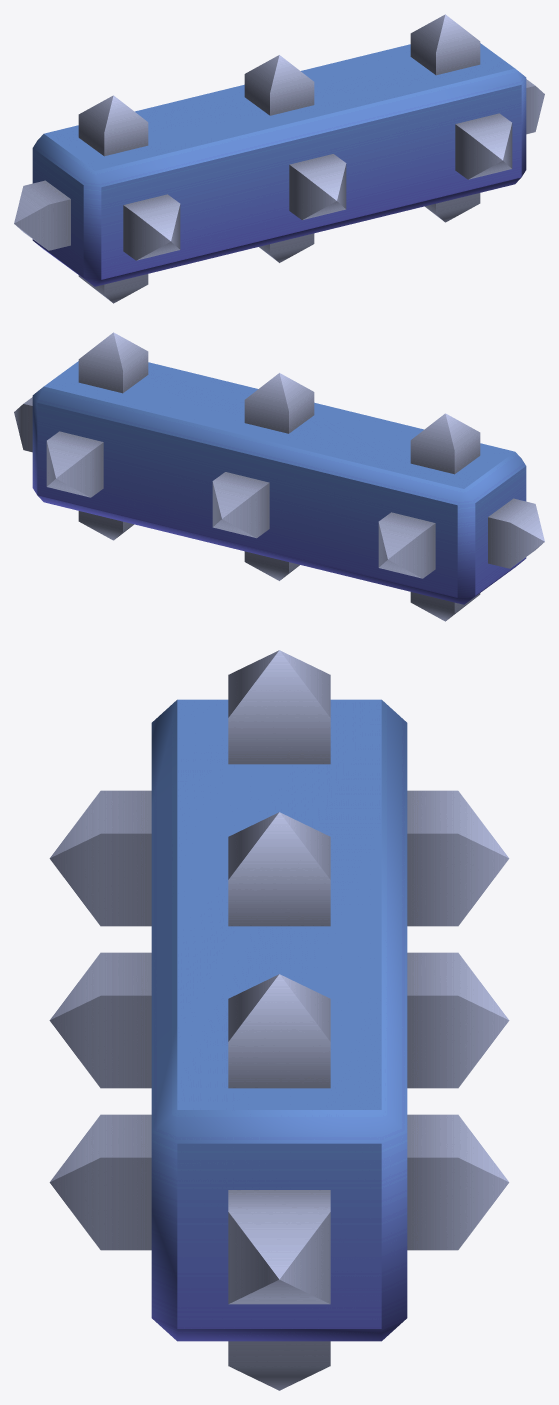
Rendered from spike-block-wide.glb.
3 views of the same model, one above another, from view 1: azimuth 30°, elevation 25°; view 2: azimuth 150°, elevation 25°; view 3: azimuth 270°, elevation 25° (orthographic). The views are drawn at different scales.
Visible parts, largest first — view 1: spike-block-wide; view 2: spike-block-wide; view 3: spike-block-wide.
Part boxes in pixels (x1,y1,x2,y2): spike-block-wide: [14, 14, 544, 303]; spike-block-wide: [14, 332, 544, 621]; spike-block-wide: [49, 650, 509, 1390].
Bounding box in the file's own units: 2.4 × 0.9 × 0.9.
1 material, 1 textured.
